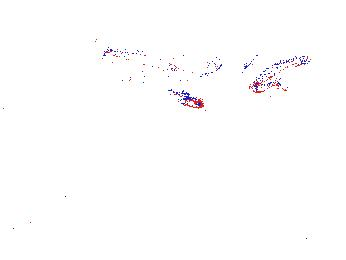red belly glassfish: (143, 71, 191, 94), (167, 90, 205, 110)
redtail glassfish: (248, 51, 314, 95), (95, 43, 179, 75), (158, 54, 224, 74)
